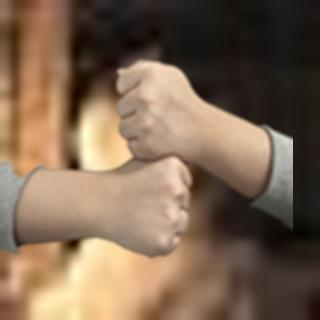CAREFUL: (29, 62, 270, 259)
